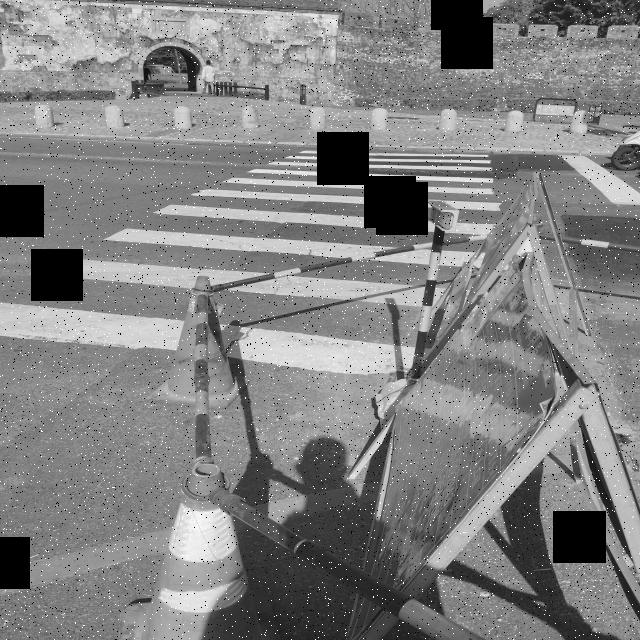zebra_crossing: (212, 193, 628, 527), (226, 109, 640, 343)
